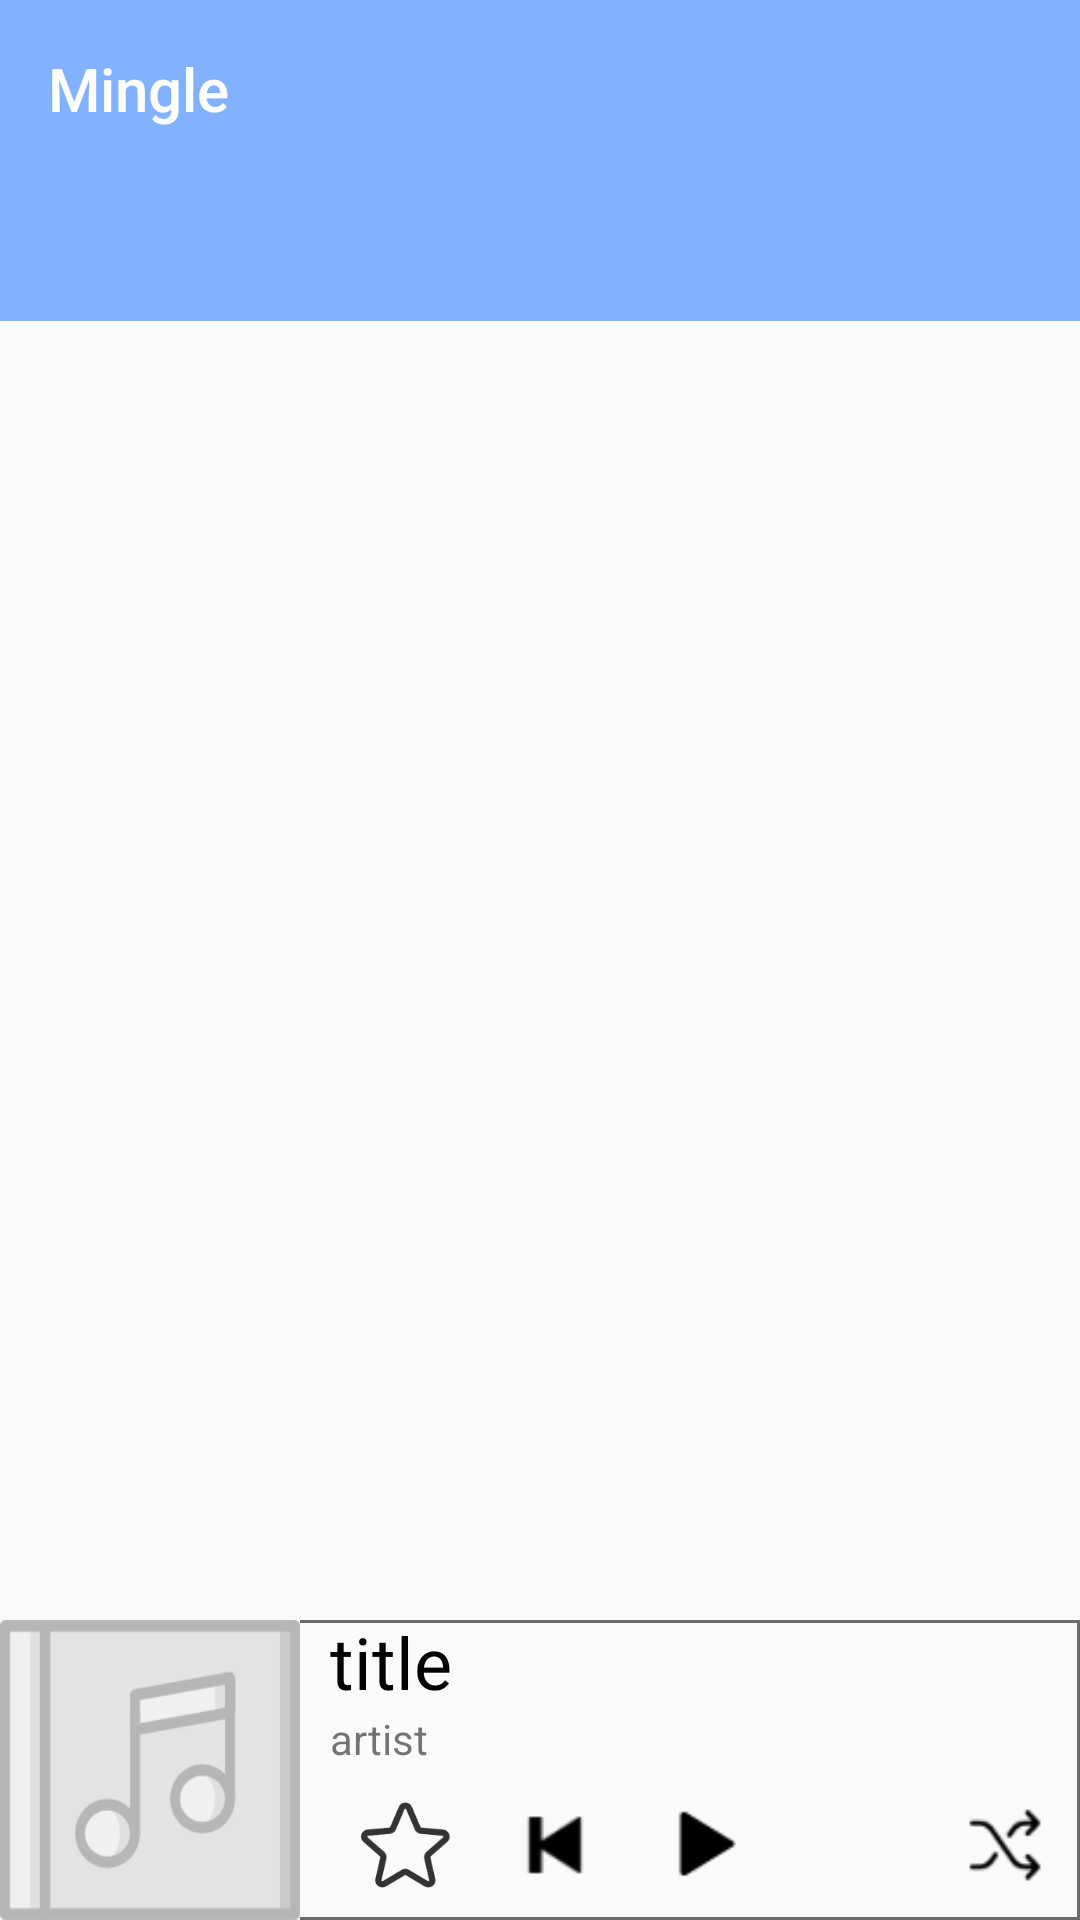

Icons on this 1080×1920 Android screen, each with its box as [x1=x1, y1=y1, x2=x2, y2=y2]:
album: [x1=0, y1=1620, x2=300, y2=1920]
favorite off: [x1=361, y1=1802, x2=450, y2=1888]
play: [x1=678, y1=1811, x2=736, y2=1876]
prev: [x1=527, y1=1816, x2=583, y2=1874]
shuffle: [x1=969, y1=1809, x2=1041, y2=1881]
